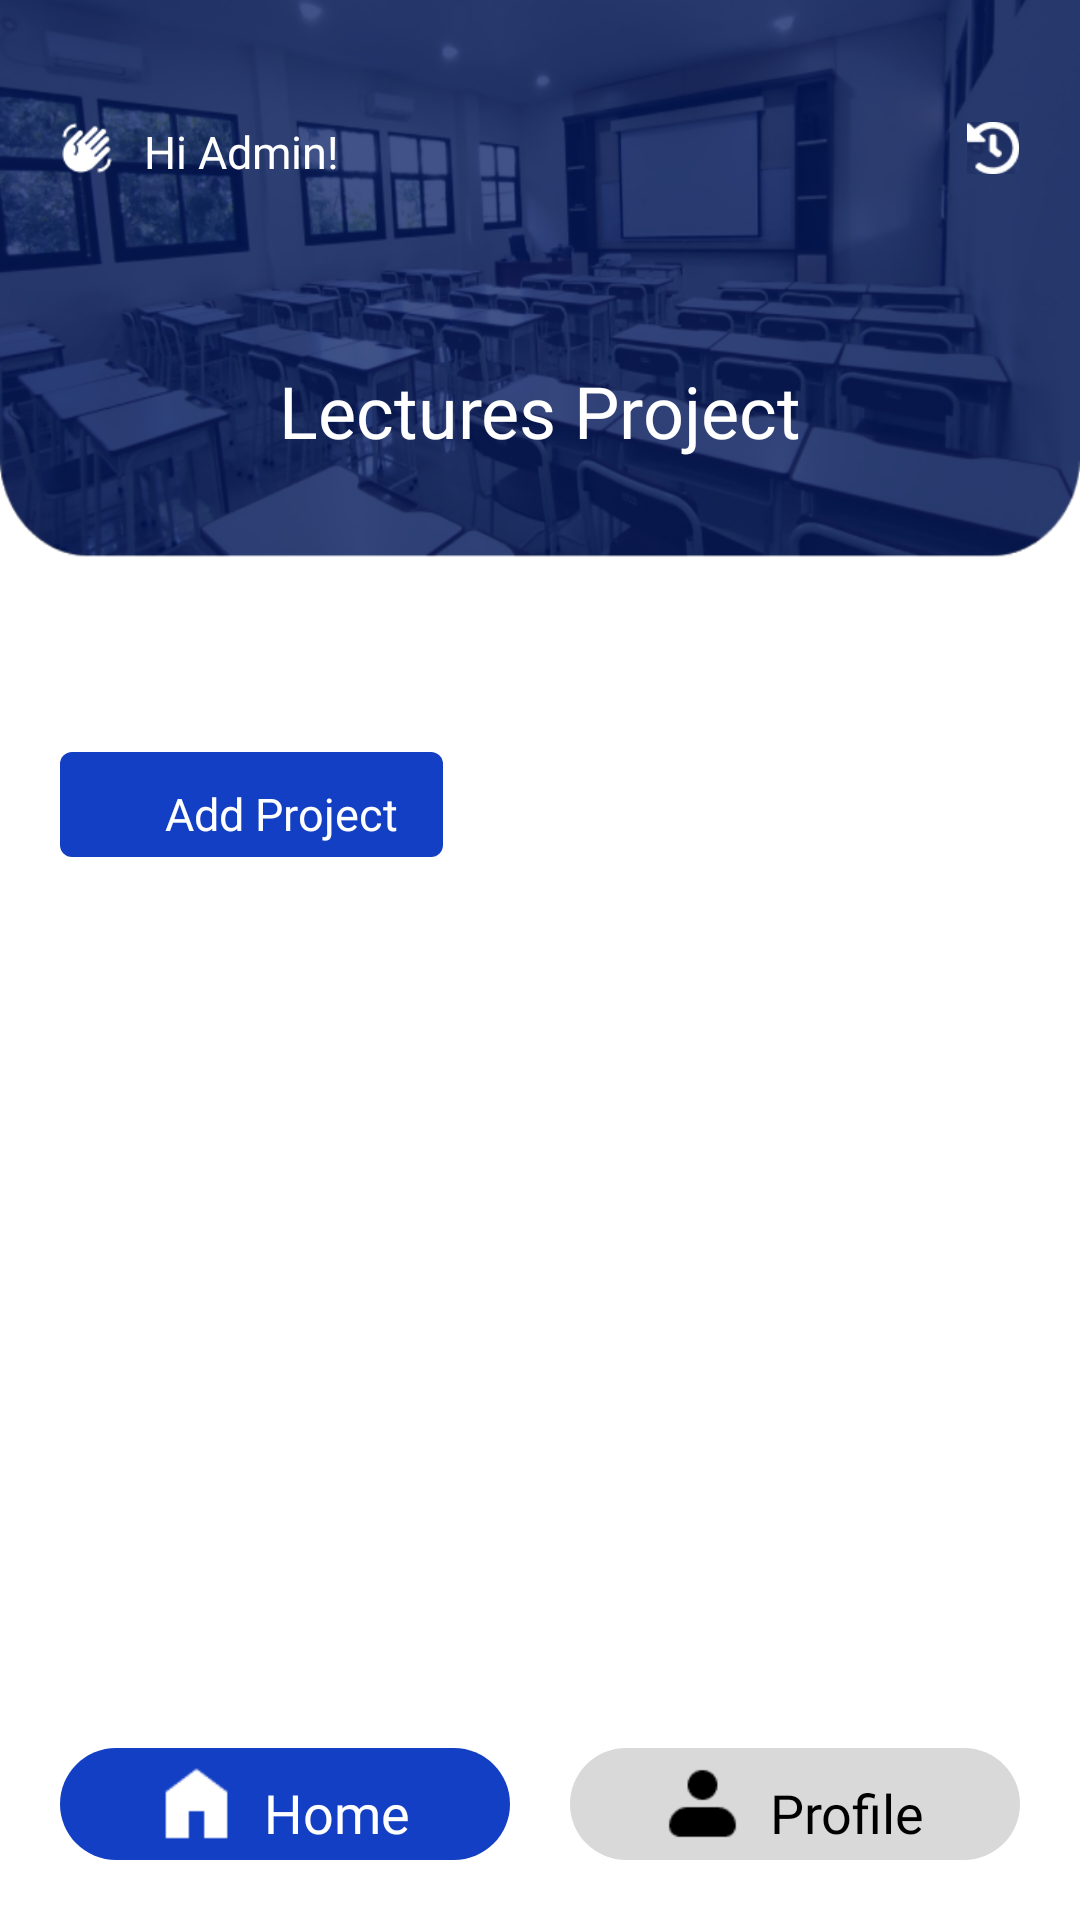

Screen size 1080px×1920px. Icon name, then its center in pixels as point (x, y):
haiuser: point (87, 148)
time: point (993, 148)
